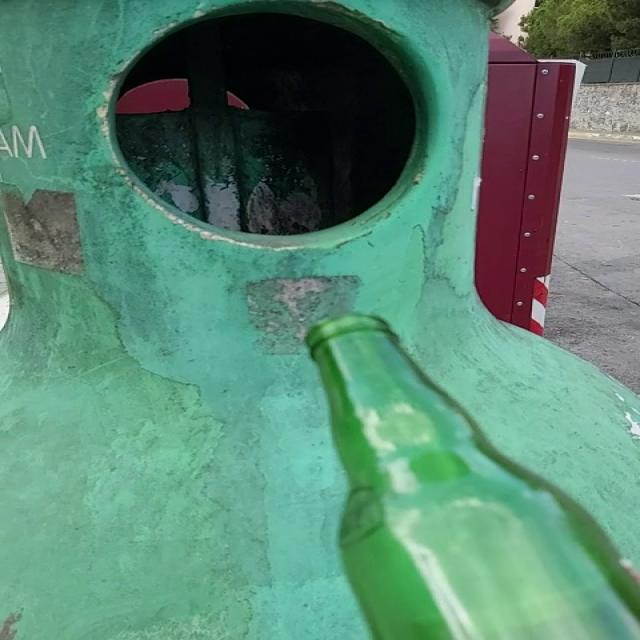glass: (307, 315, 640, 640)
